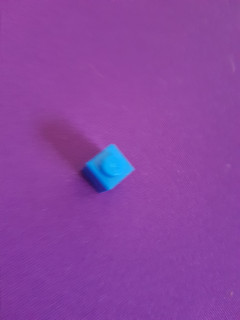1x1 blue: (74, 140, 139, 197)
